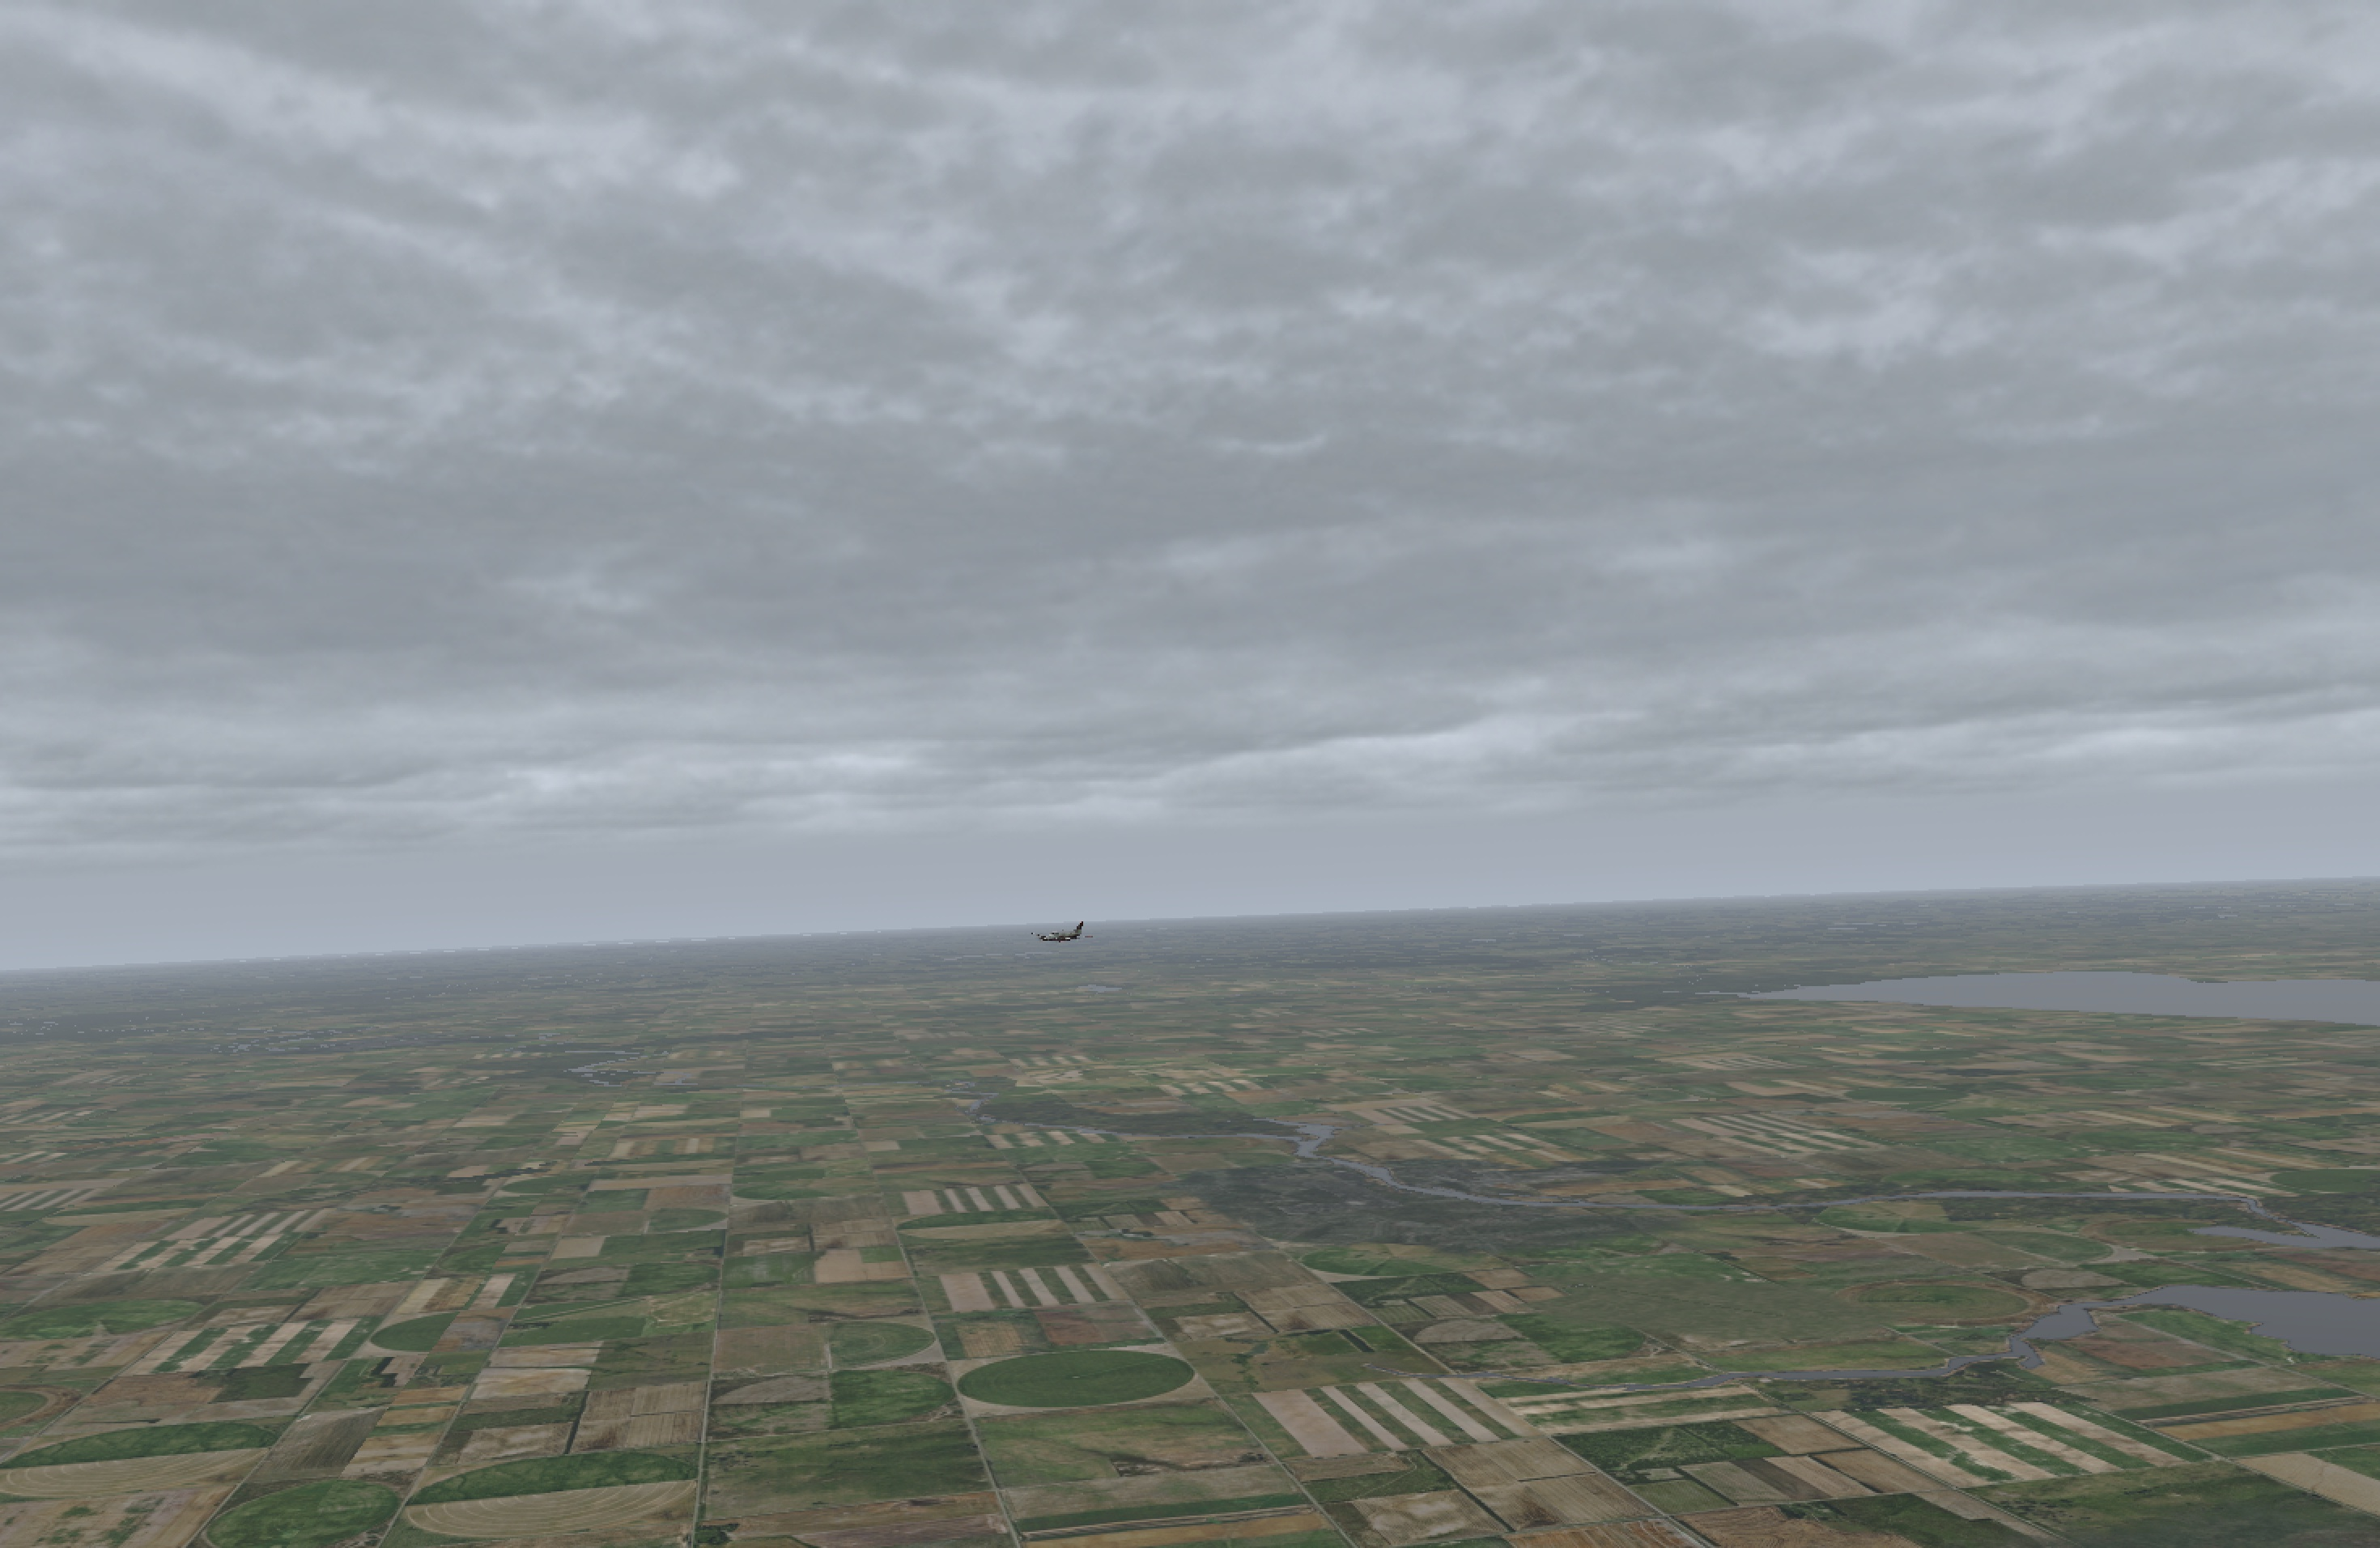aircraft: (1017, 925, 1098, 954)
